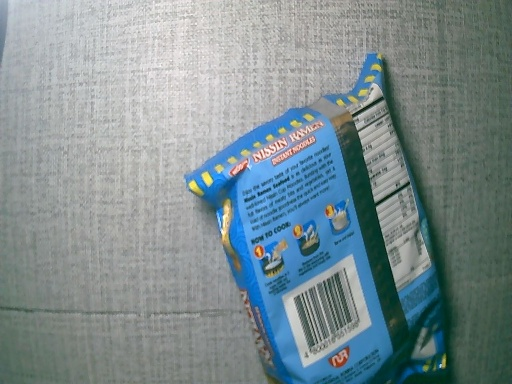plastic: (183, 50, 447, 384)
